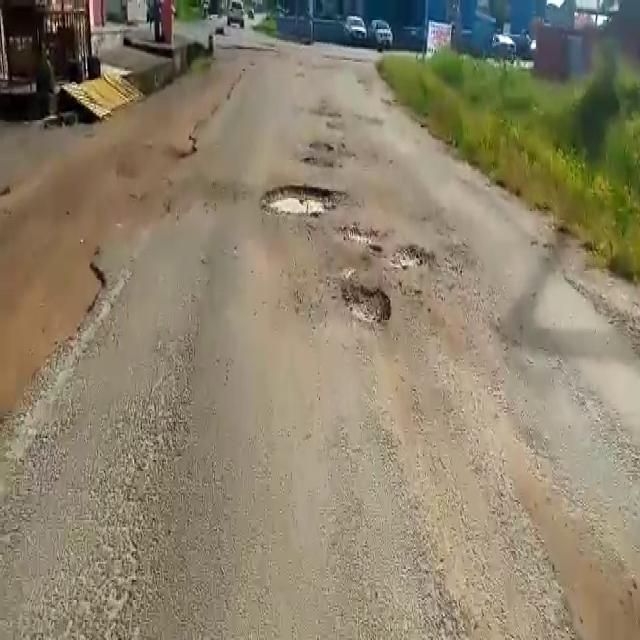Pothole: (258, 180, 348, 221), (338, 284, 392, 324), (391, 244, 432, 269), (338, 225, 380, 249)
